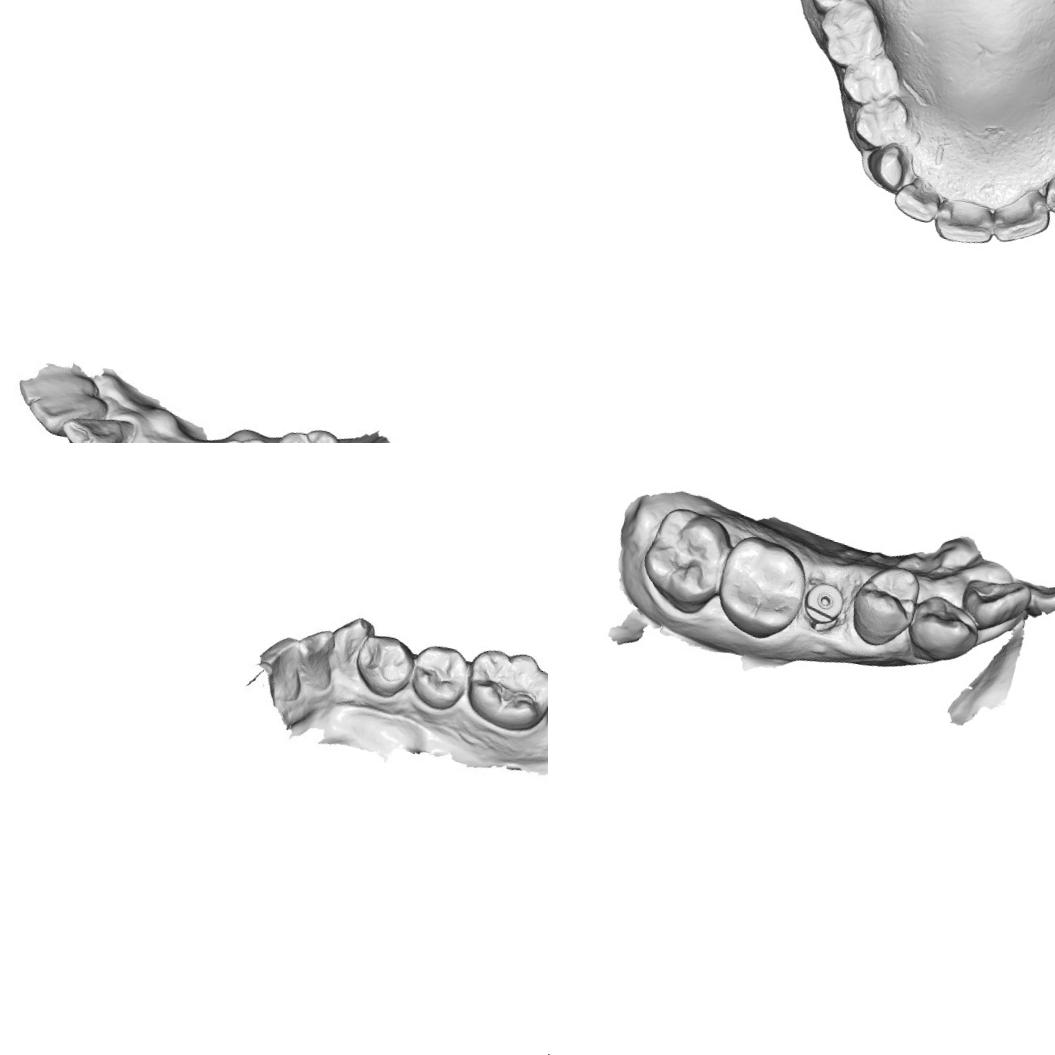canine: (904, 590, 986, 667), (324, 611, 374, 683), (51, 404, 139, 443), (860, 138, 914, 196)
implant: (798, 578, 848, 628)
incisor: (956, 570, 1032, 638), (251, 626, 314, 708), (29, 383, 108, 441), (987, 187, 1055, 252), (930, 194, 1004, 252), (286, 626, 342, 695), (890, 174, 943, 225), (1039, 165, 1055, 220)
molar: (632, 501, 734, 621), (710, 530, 815, 646), (464, 646, 548, 736), (810, 0, 895, 77), (271, 423, 356, 443), (802, 0, 874, 22), (201, 426, 282, 443)
premolar: (846, 557, 926, 654), (834, 45, 909, 115), (409, 636, 475, 712), (847, 86, 918, 155), (351, 634, 415, 699)
